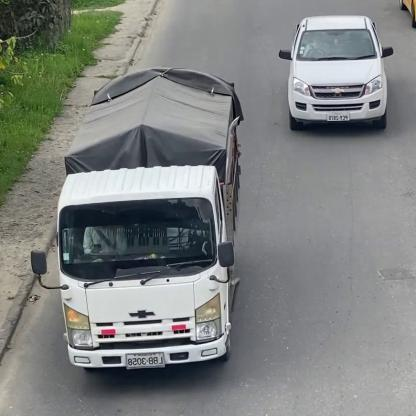Placa: (126, 353, 164, 369), (324, 113, 352, 124)
